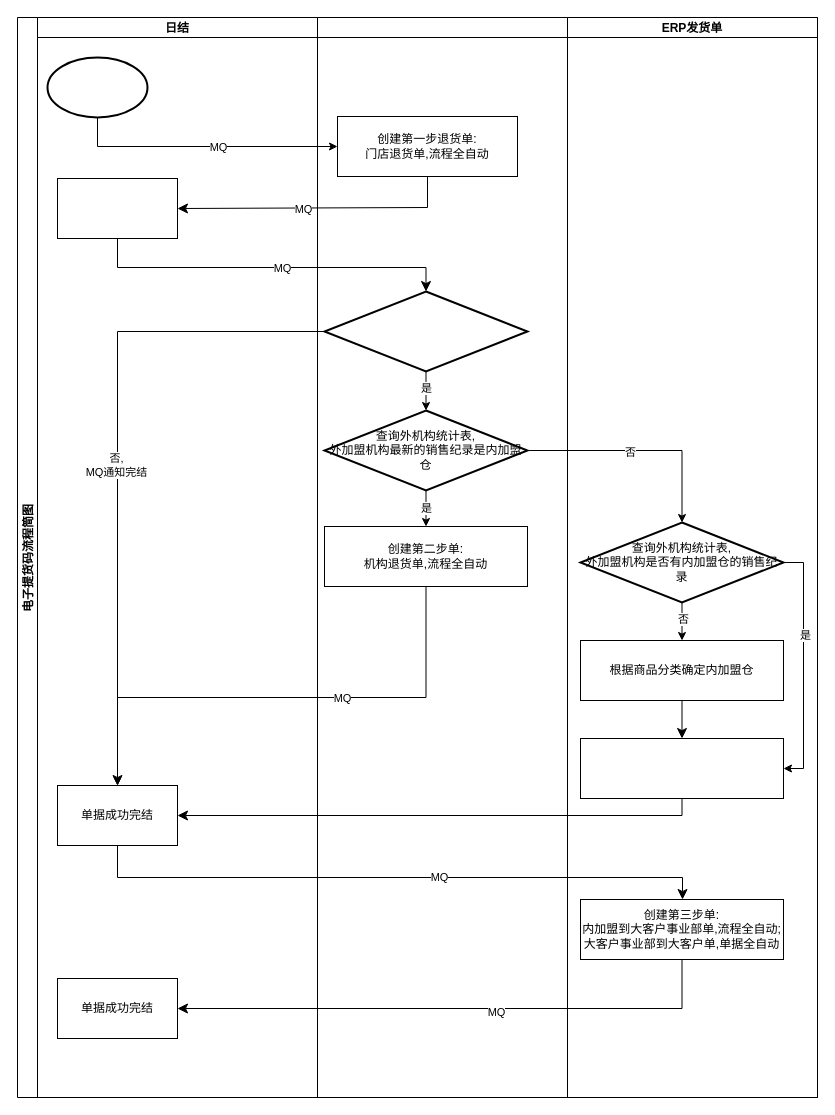
The diagram is 835 pixels wide and 1115 high, and some of its shapes have lost their labels. The box of each missing label's shape, as (x1, y1, x2, y2) in pixels:
ERP退货单: (316, 16, 568, 1098)
创建第二步单: 机构提货单,流程全自动: (580, 738, 784, 798)
是否外加盟: (323, 290, 528, 372)
退货单成功完结: (56, 178, 178, 238)
门店日结,使用了电子提货码: (46, 56, 148, 118)
